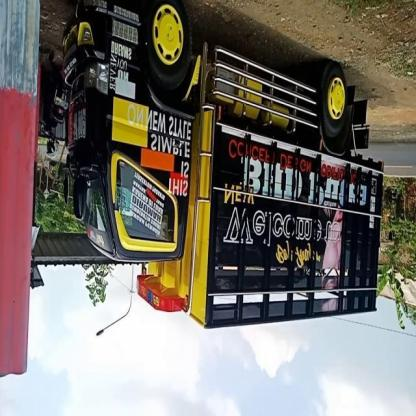truck: (56, 2, 385, 333)
